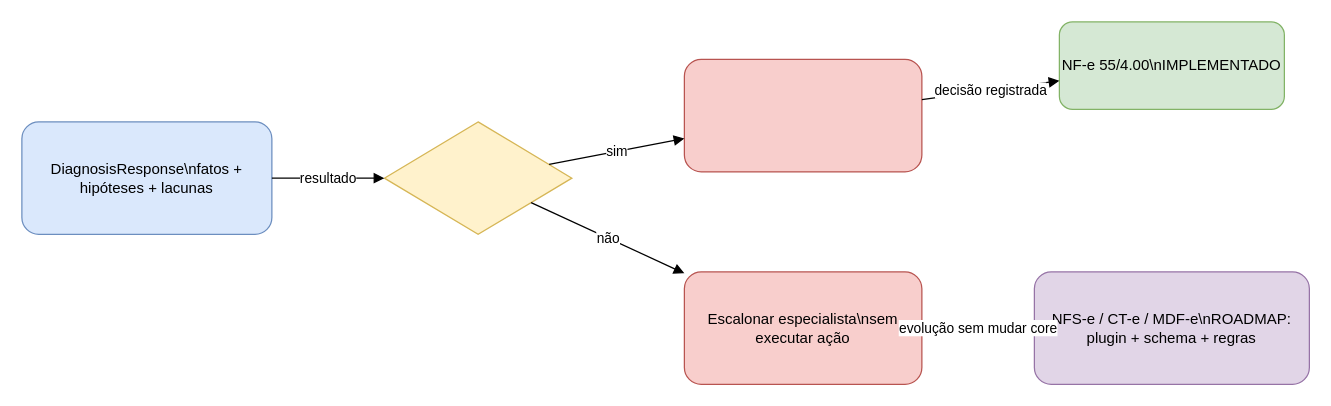
Some shapes in this 1331 by 406 pixel diagram are drawn without their labels. Here are the shapes that lost their labels. From the top down, the box of each, then its label:
(683, 58, 922, 172): Revisor fiscal\naprova/edita/rejeita
(383, 121, 572, 234): Evidência suficiente?
